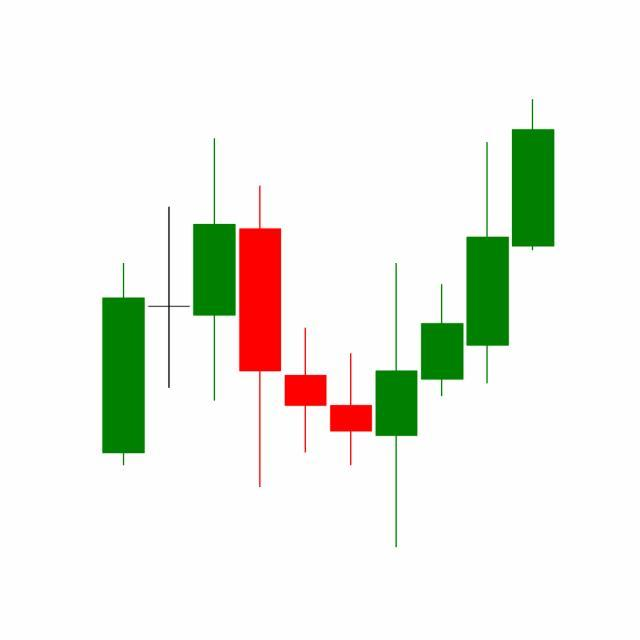Hikkake Pattern: (283, 138, 512, 549)
